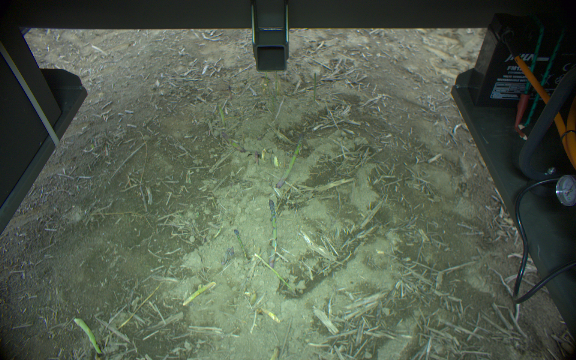aspa: (276, 130, 305, 187), (72, 316, 103, 354), (266, 199, 279, 269), (231, 227, 248, 262), (221, 131, 247, 152), (217, 102, 227, 127)
